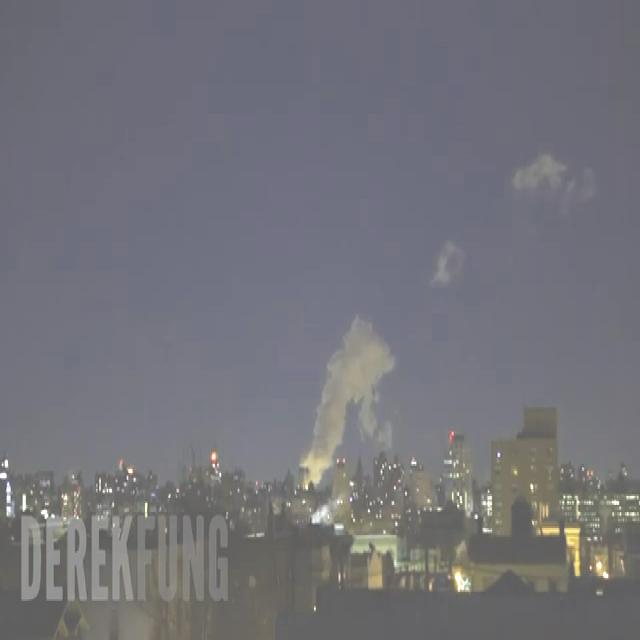smoke: (303, 316, 394, 482)
